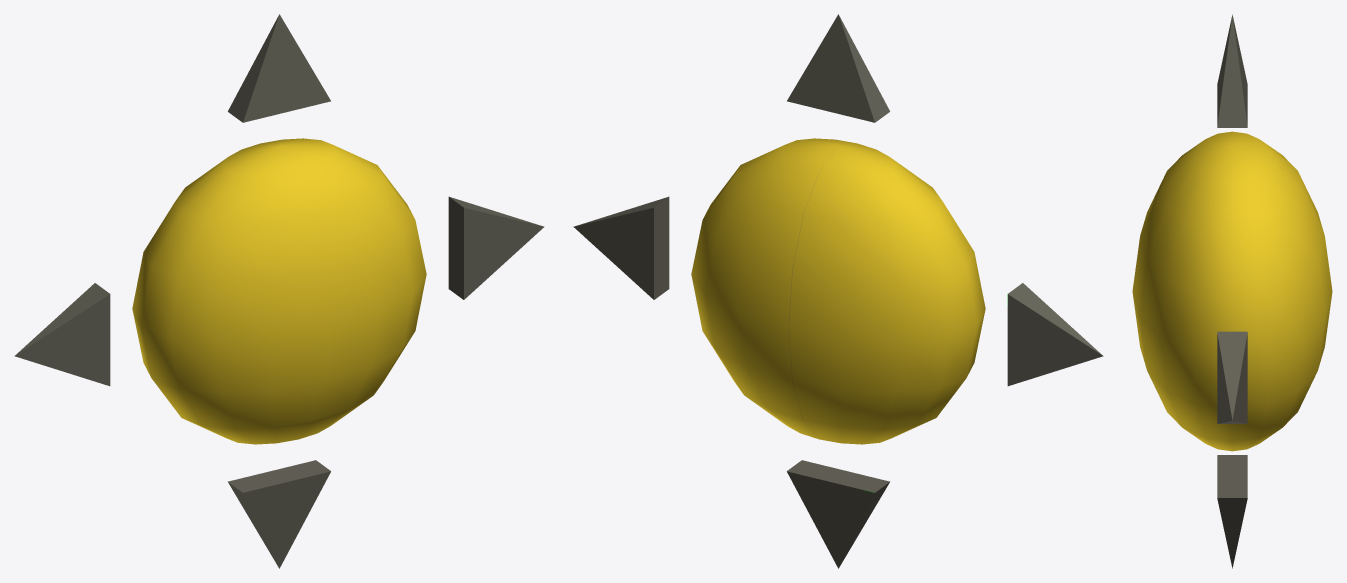
File: godSignAnim.fbx
The picture shows the model from 3 angles, left to right: view 1: azimuth 30°, elevation 25°; view 2: azimuth 150°, elevation 25°; view 3: azimuth 270°, elevation 25°; orthographic projection.
Visible parts, largest first — view 1: Sphere004; view 2: Sphere004; view 3: Sphere004.
Boxes of the visible parts, box(x1,y1,x2,y2) form: Sphere004: box(14, 14, 544, 568); Sphere004: box(573, 14, 1103, 568); Sphere004: box(1132, 14, 1332, 568).
Size of the model in its own units: 60 by 60 by 19.6.
